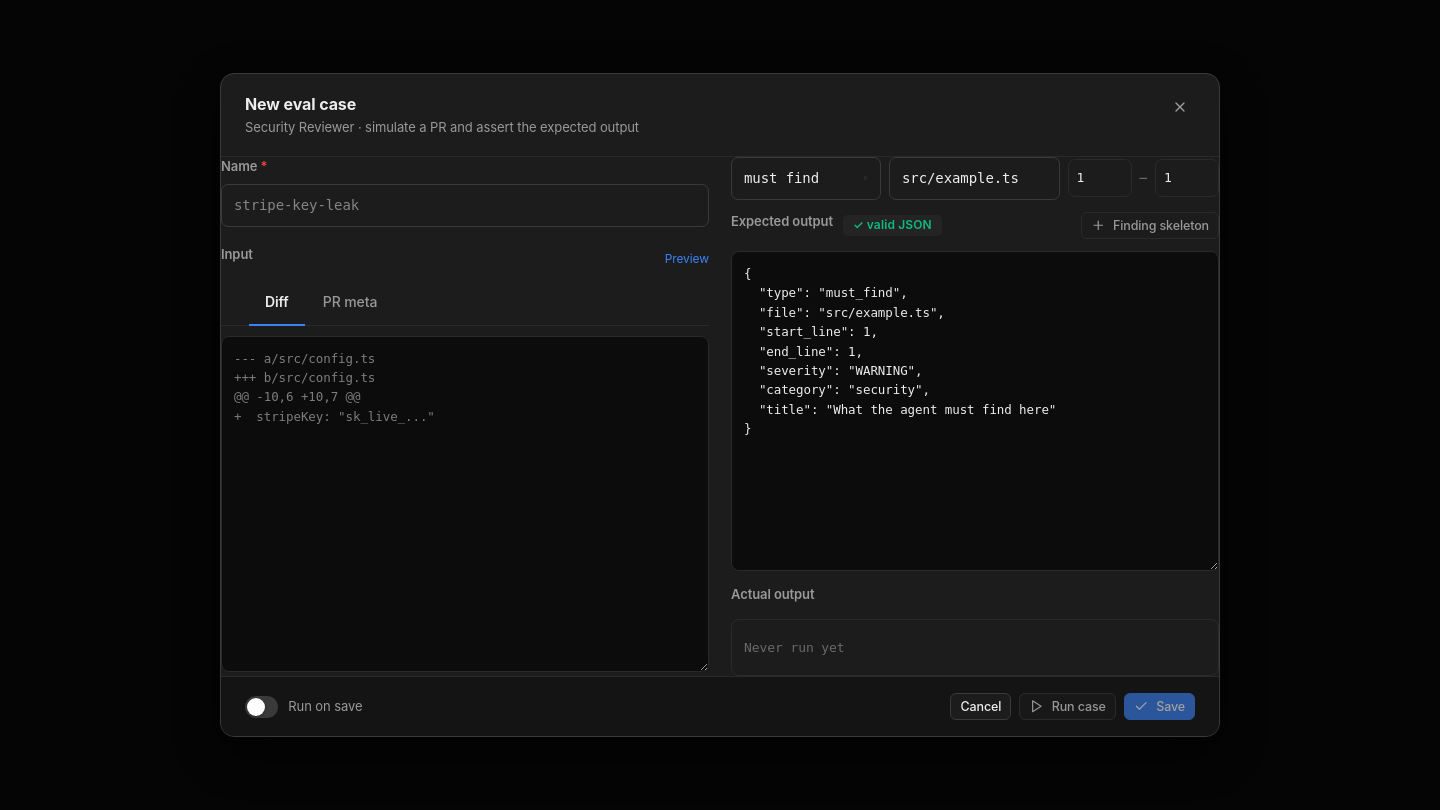
Scenario: CaseEditorModal — Run case on a new case › enables once name + diff are filled (expected JSON is prefilled valid)
In the field with placeholder "stripe-key-leak": (465,206) [234, 195, 696, 216], type "my-case"
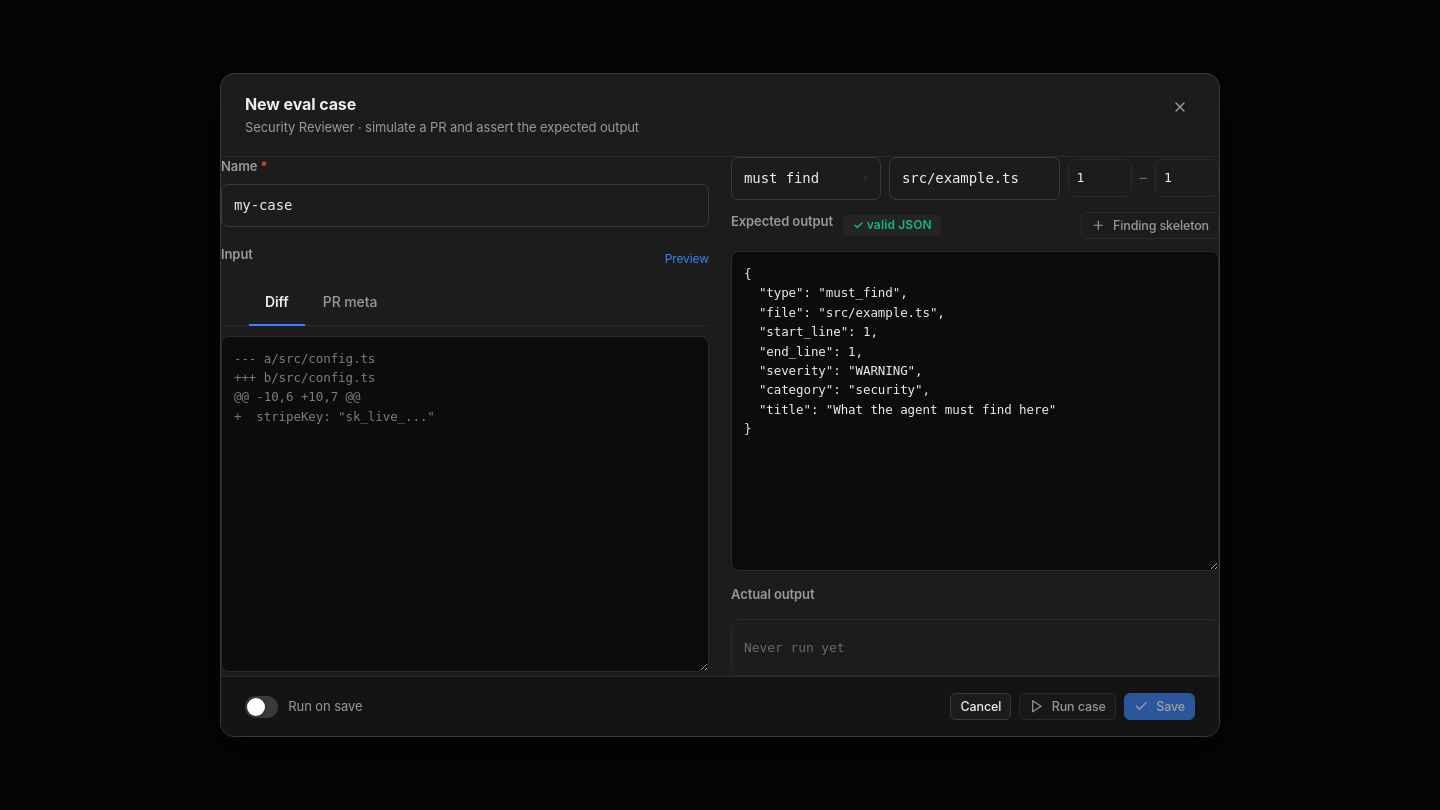
Replace the text in the text box with test id "diff-editor" with "diff --git a/a.ts b/a.ts": (465,504) [221, 336, 709, 672]
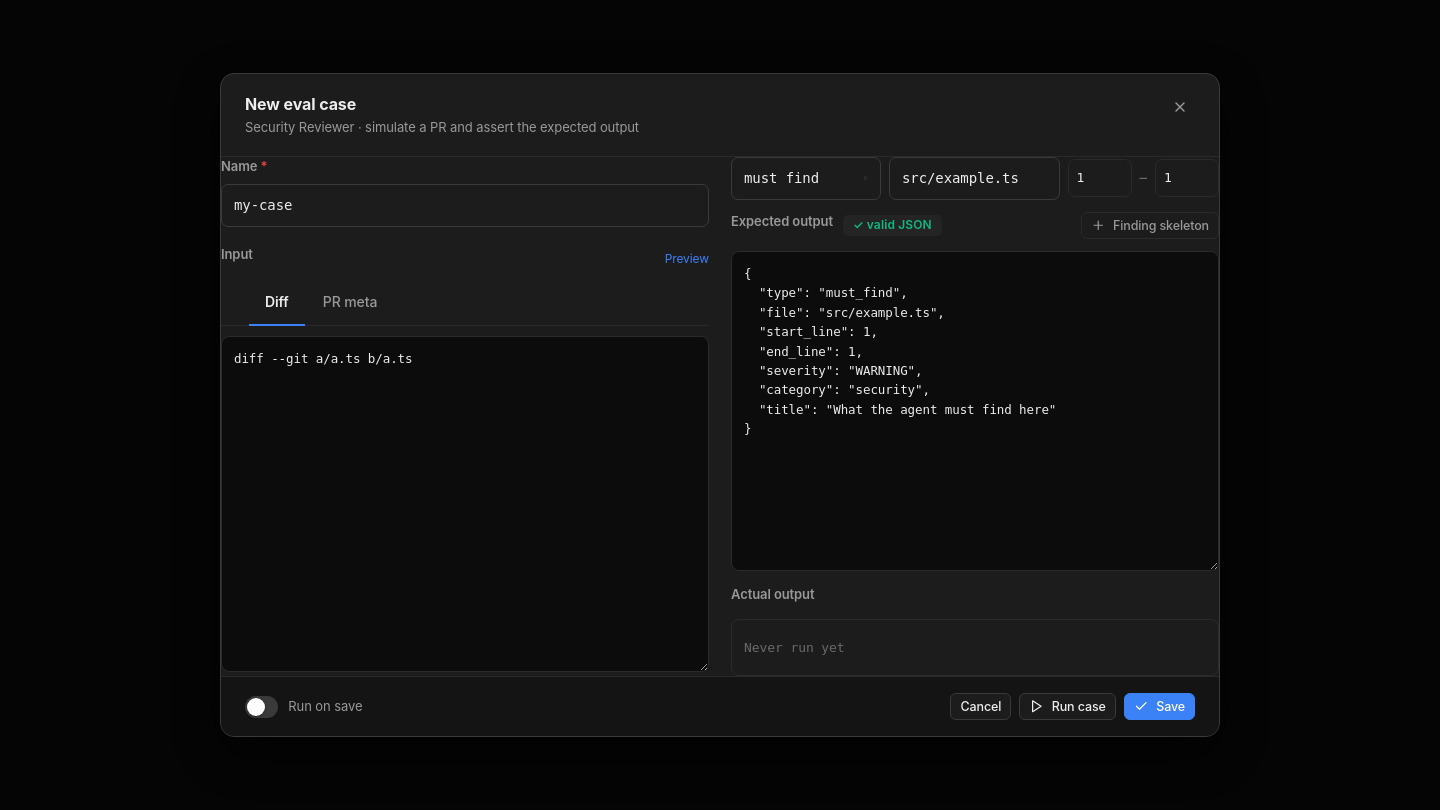
Now the button "Run case" is enabled, box [1019, 693, 1116, 720]
